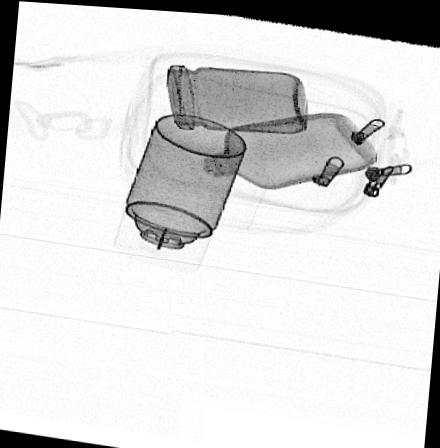Sprayer: (112, 112, 245, 269)
